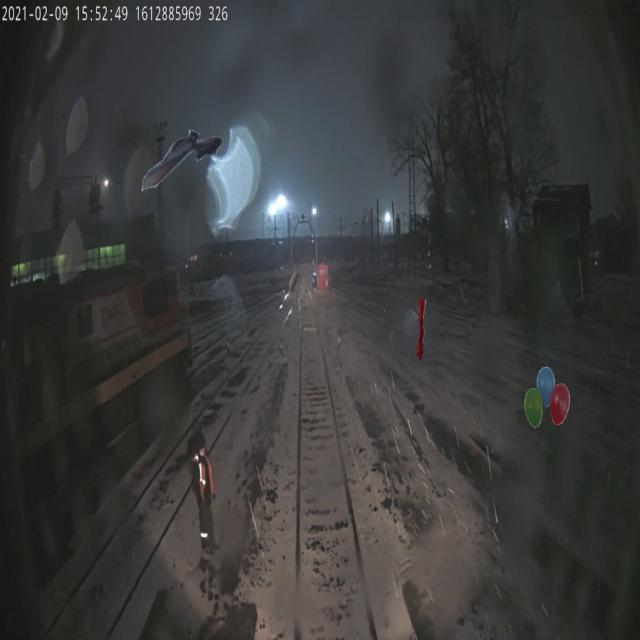balloon: (524, 365, 570, 429)
floating object: (141, 128, 222, 192), (416, 298, 426, 362)
